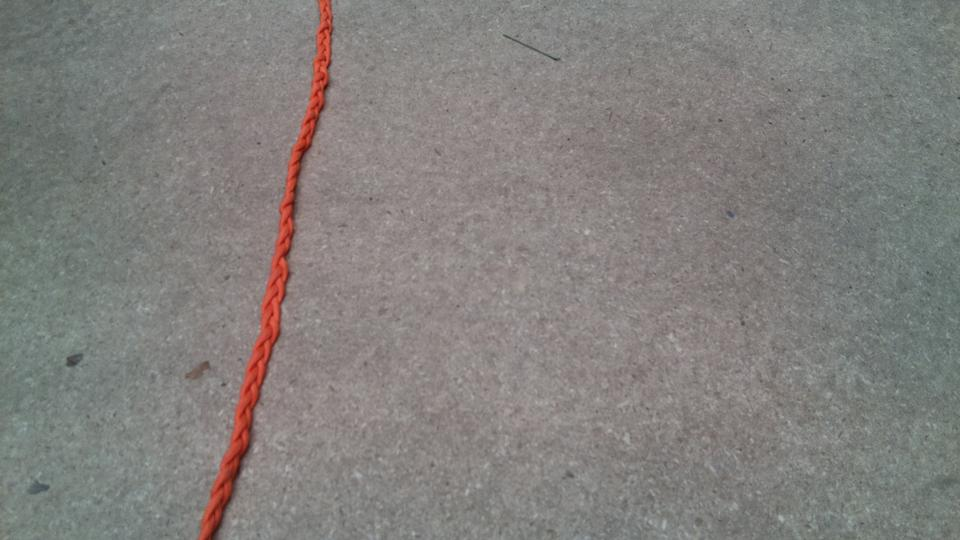rope: (192, 1, 340, 540)
